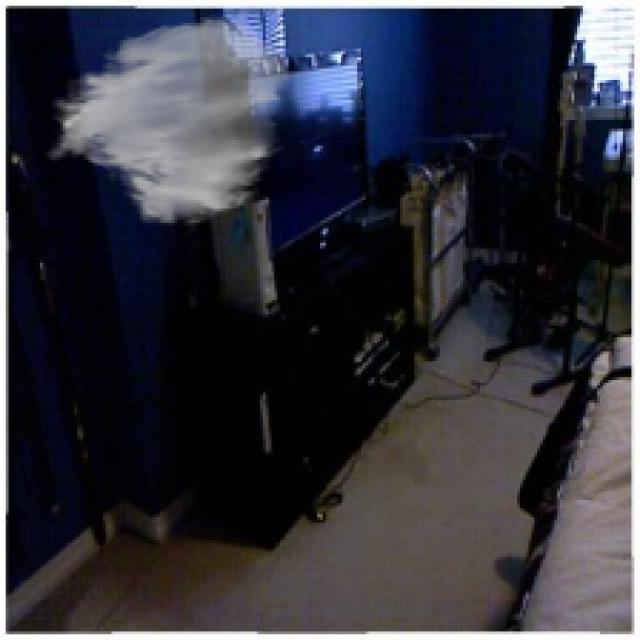smoke: (43, 14, 294, 229)
